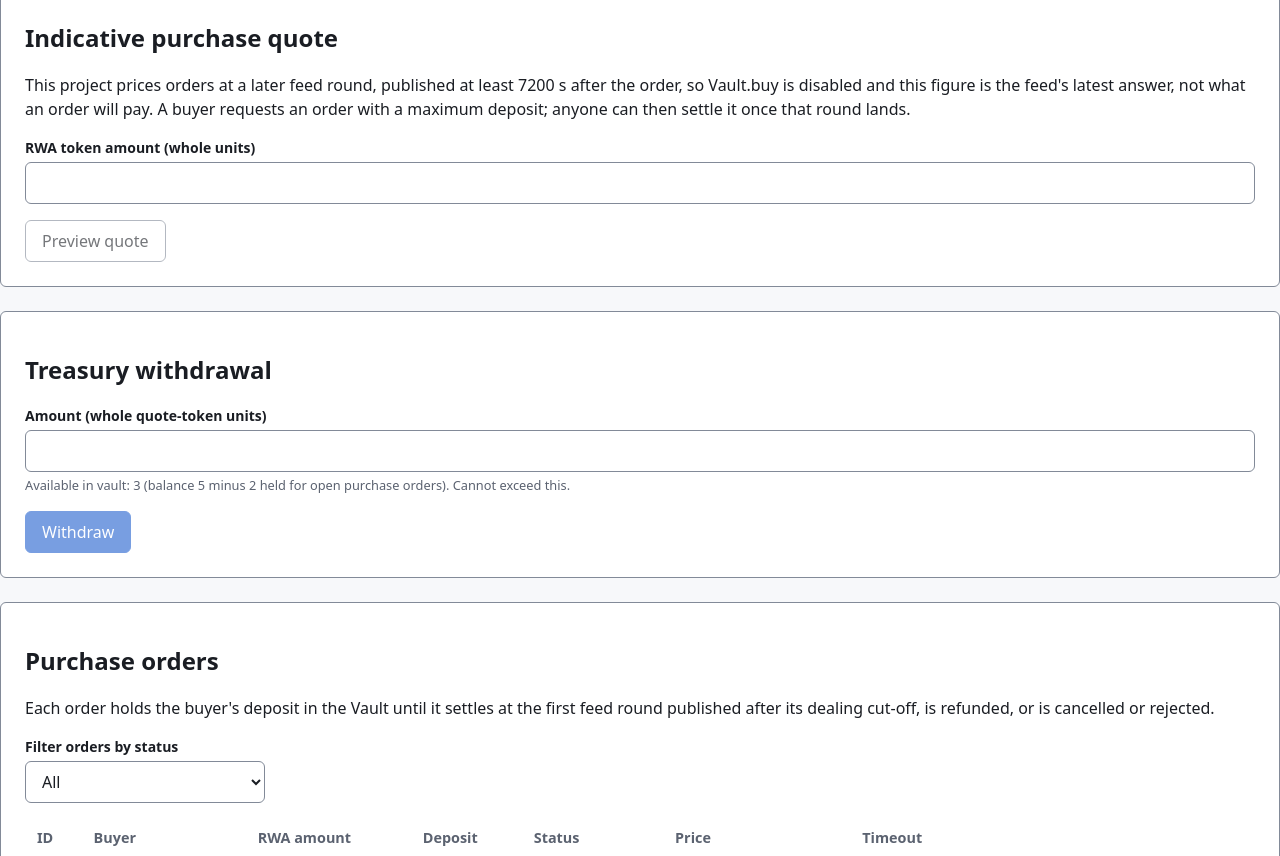
Test: InventorySales on a forward-priced project › withdrawal bound › blocks an amount above balance minus deposits, even though it is below the balance
This screenshot has width=1280, height=856.
(page scrolled)
Type "3.000000000000000001" into the field labelled "Amount (whole quote-token units)" at (640, 451), box [25,430,1255,472]
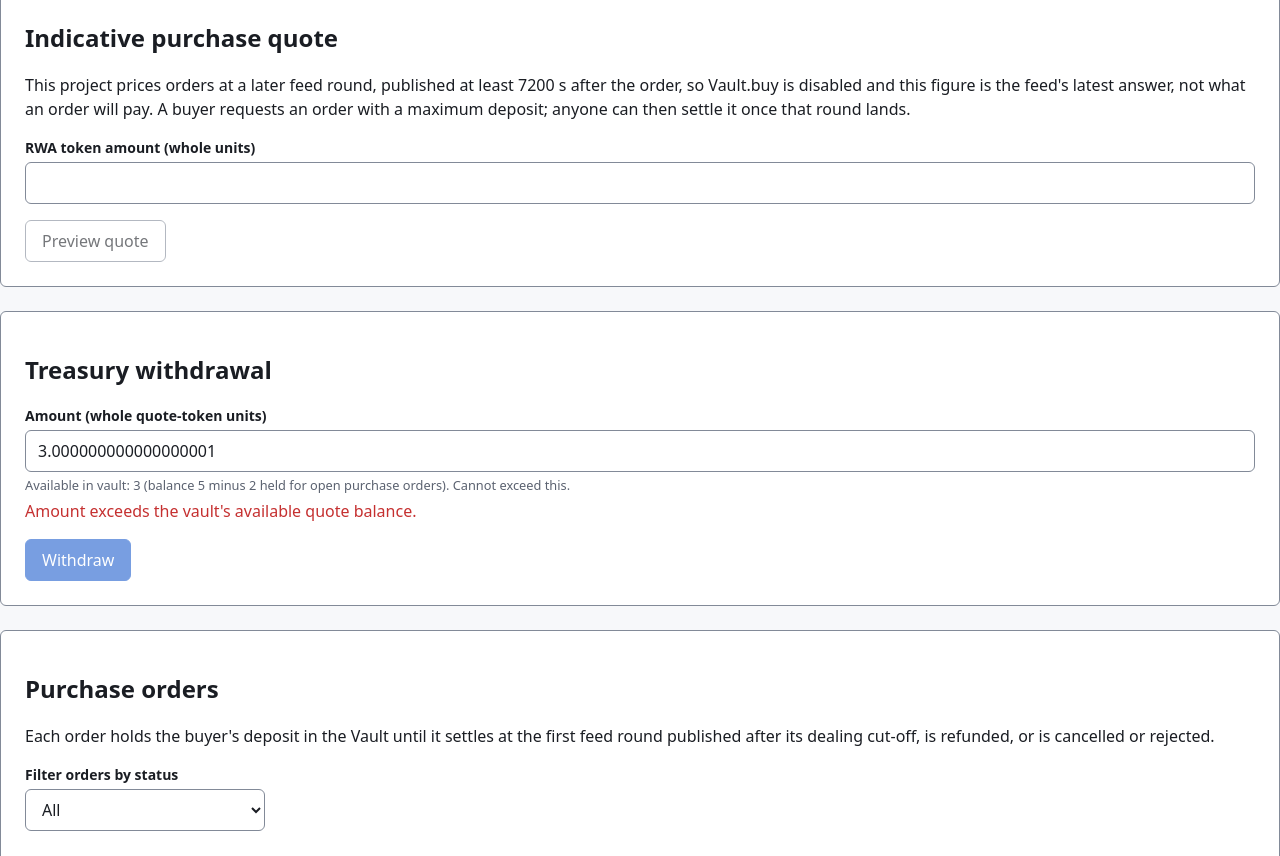
Check: the button "Withdraw" is disabled, box [25,539,131,581]
Check: the text "Amount exceeds the vault's available quote balance." is shown, box [25,500,416,522]
